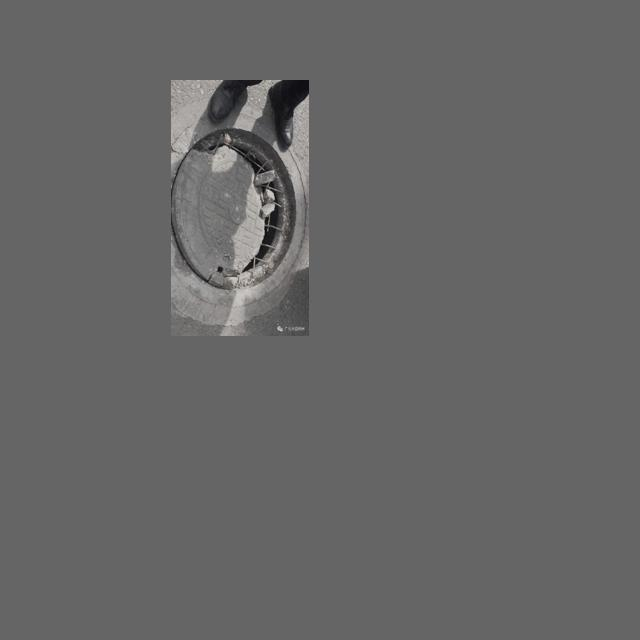broke: (172, 116, 305, 317)
